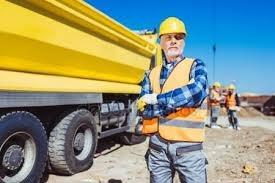Vest: (142, 60, 206, 136)
